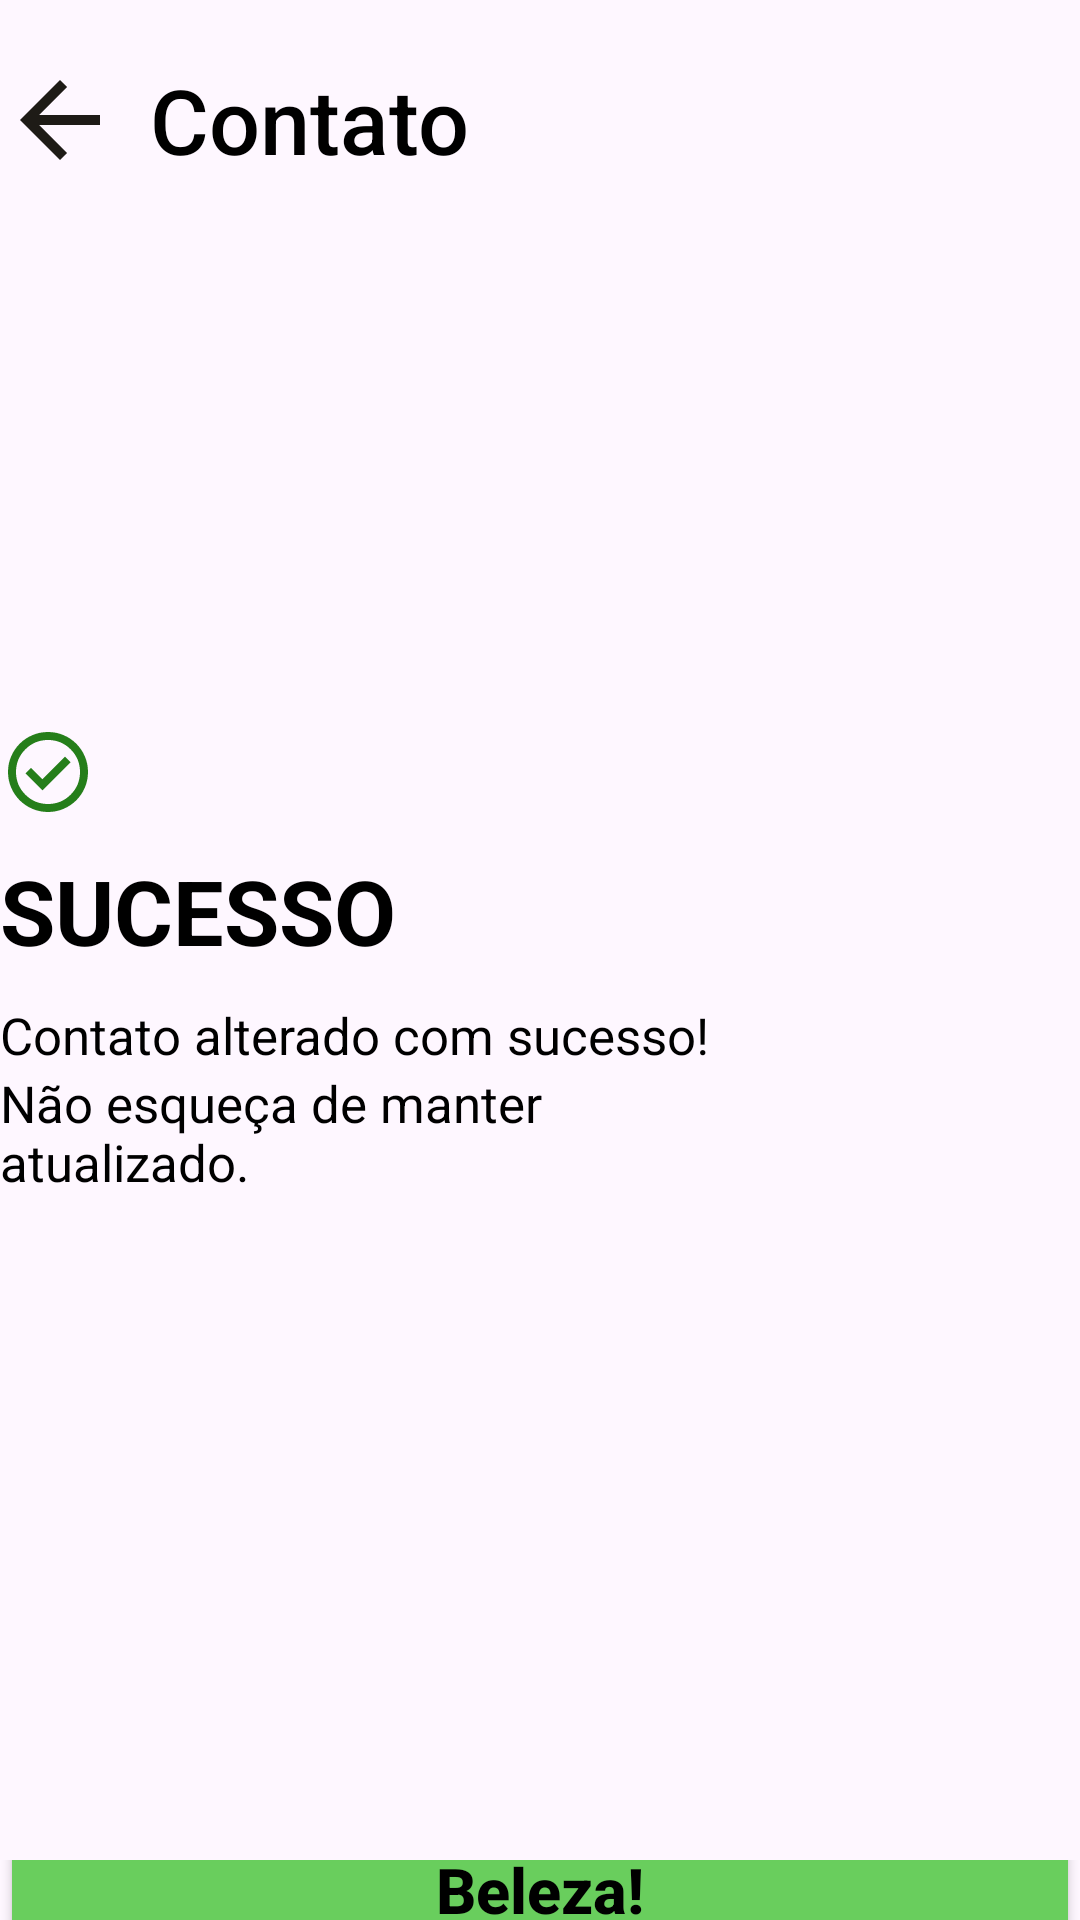

Icon click points for this 1080x1920 phone screenshot, format (x=x, y=y):
check circle: (x=48, y=772)
seta preta voltar: (x=60, y=120)
